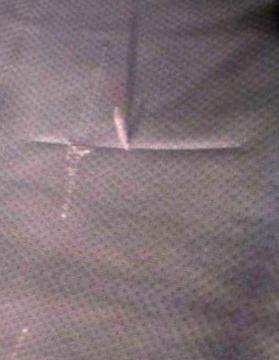snag: (97, 91, 151, 161)
